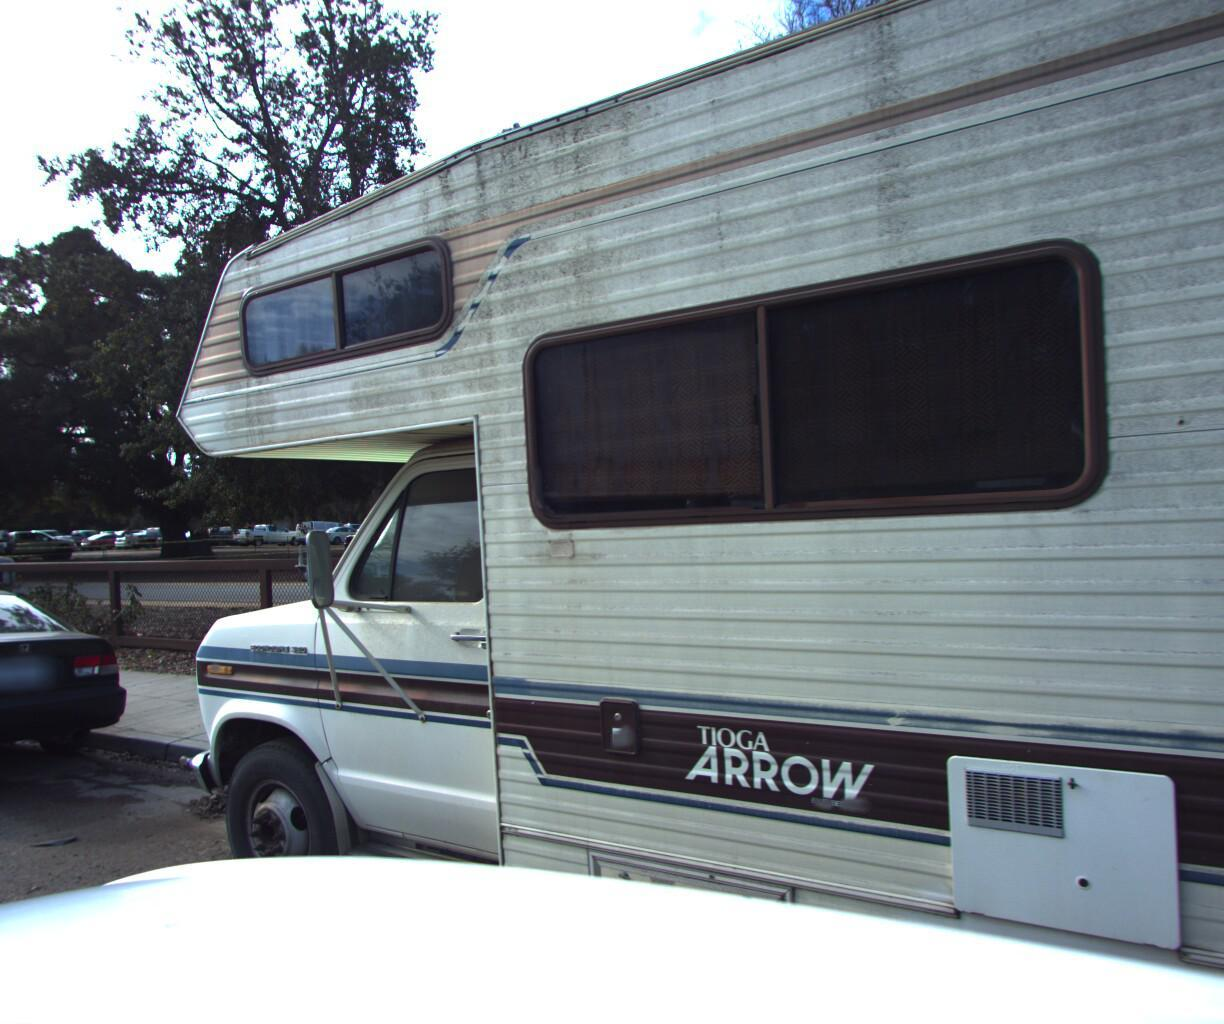car: (0, 575, 151, 835)
